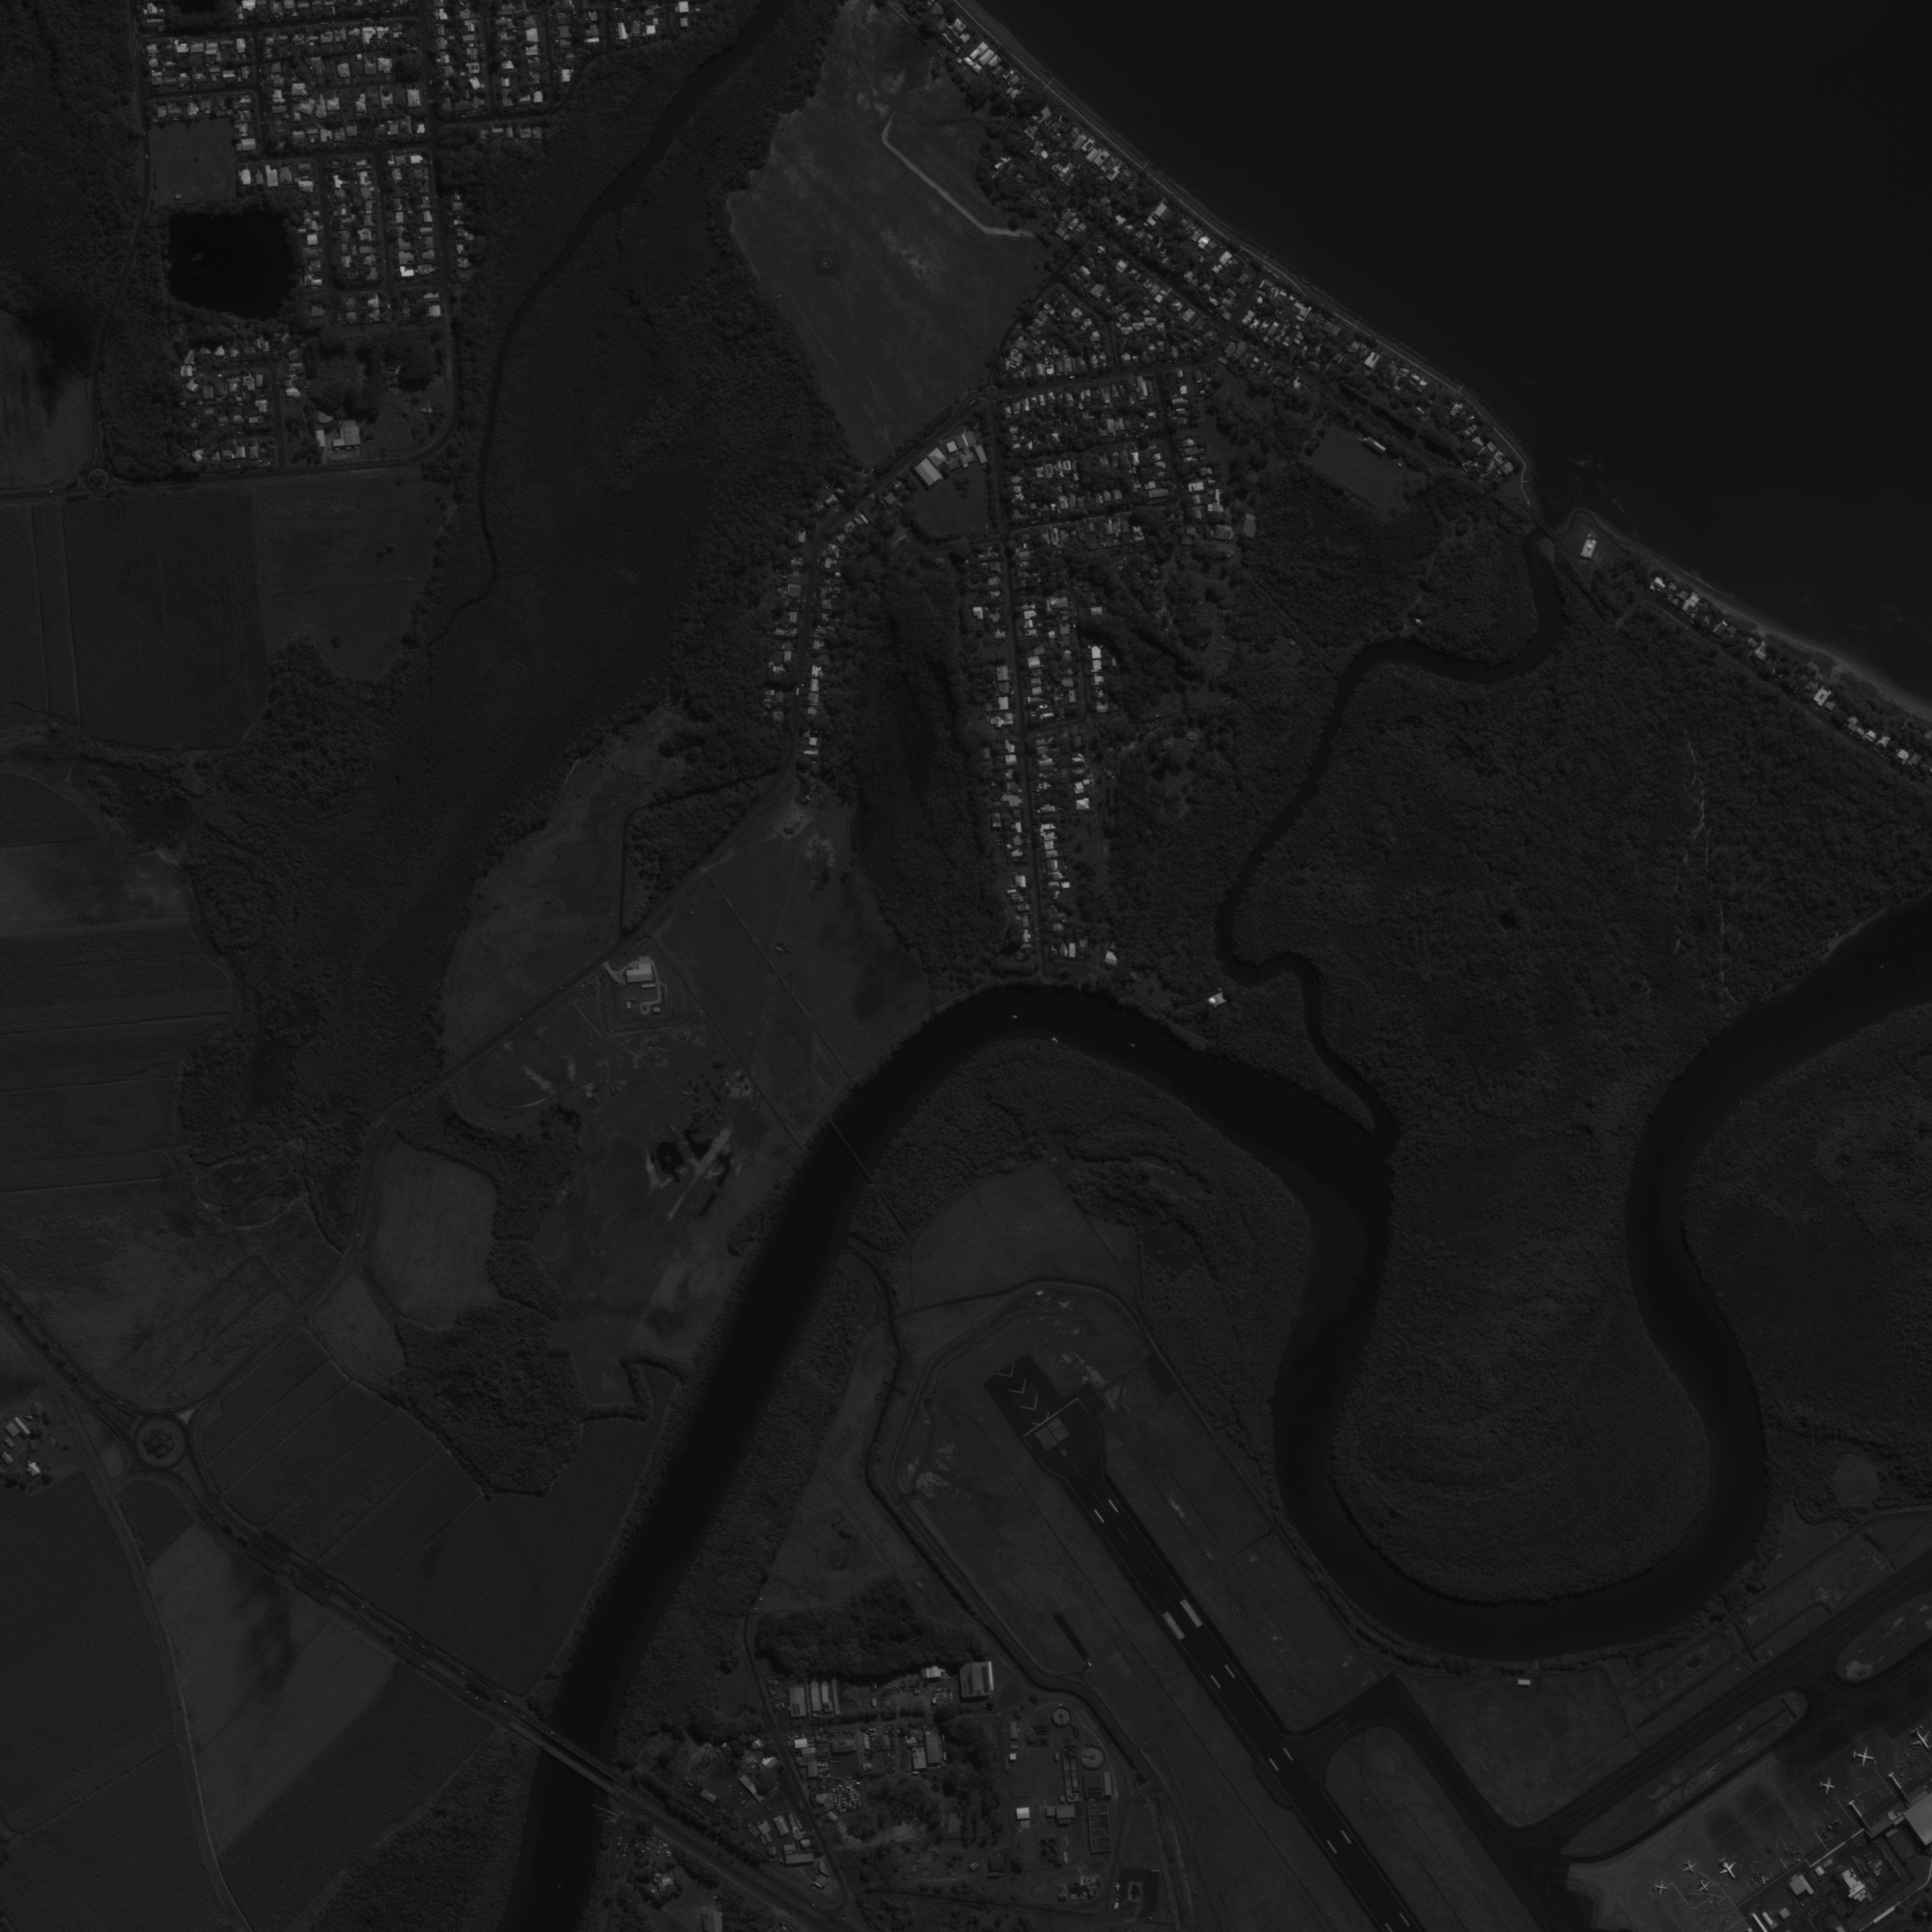plane: (1713, 1854, 1744, 1886), (1907, 1725, 1930, 1757), (1851, 1744, 1877, 1771), (1679, 1858, 1702, 1877), (1693, 1877, 1716, 1897), (1817, 1776, 1836, 1798), (1652, 1879, 1668, 1898), (1115, 1882, 1122, 1891)
